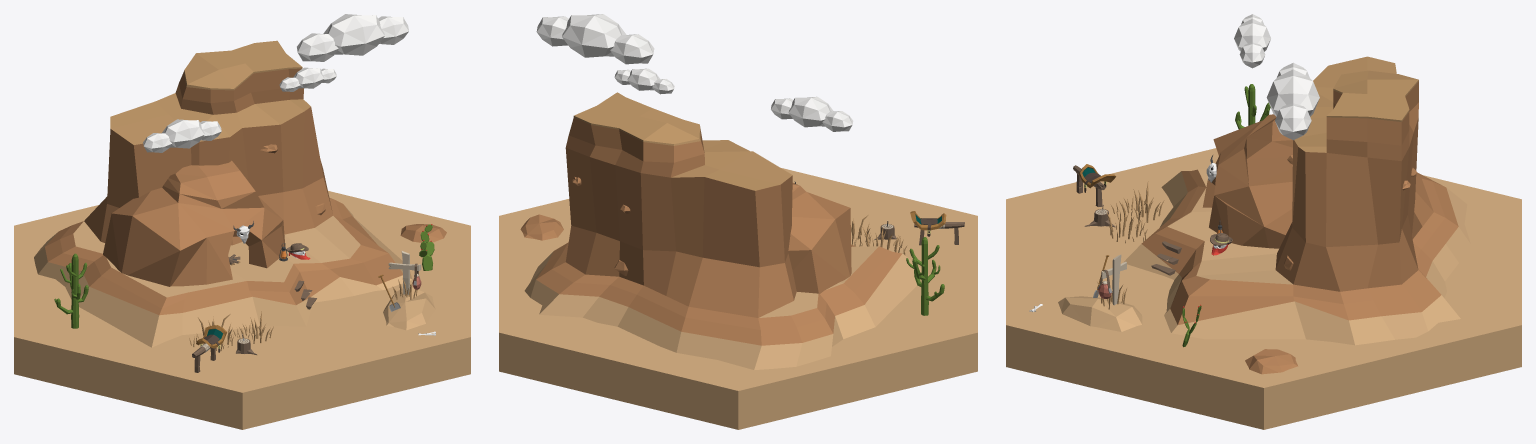
File: Tile_16.fbx
The picture shows the model from 3 angles, left to right: view 1: azimuth 30°, elevation 25°; view 2: azimuth 150°, elevation 25°; view 3: azimuth 270°, elevation 25°; orthographic projection. The views are drawn at different scales.
Visible parts, largest first — view 1: Tile_16_Base, Tile_16_Mountain, Tile_16_Cave, Tile_16, Tile_16_Grave, Tile_16_Stone, Tile_16_Saddle; view 2: Tile_16_Mountain, Tile_16_Base, Tile_16, Tile_16_Cave, Tile_16_Stone, Tile_16_Saddle; view 3: Tile_16_Base, Tile_16_Mountain, Tile_16_Cave, Tile_16, Tile_16_Grave, Tile_16_Stone, Tile_16_Grass, Tile_16_Saddle.
Boxes of the visible parts, left/top/right/bottom form: Tile_16_Base: left=14, top=191, right=470, bottom=429; Tile_16_Mountain: left=34, top=40, right=412, bottom=347; Tile_16_Cave: left=103, top=160, right=285, bottom=286; Tile_16: left=54, top=14, right=434, bottom=328; Tile_16_Grave: left=383, top=251, right=435, bottom=330; Tile_16_Stone: left=400, top=224, right=446, bottom=242; Tile_16_Saddle: left=196, top=325, right=226, bottom=352; Tile_16_Mountain: left=524, top=92, right=928, bottom=369; Tile_16_Base: left=499, top=168, right=977, bottom=429; Tile_16: left=536, top=14, right=944, bottom=315; Tile_16_Cave: left=788, top=183, right=851, bottom=293; Tile_16_Stone: left=520, top=214, right=563, bottom=240; Tile_16_Saddle: left=910, top=211, right=946, bottom=236; Tile_16_Base: left=1006, top=148, right=1521, bottom=429; Tile_16_Mountain: left=1123, top=56, right=1470, bottom=345; Tile_16_Cave: left=1202, top=114, right=1292, bottom=248; Tile_16: left=1182, top=14, right=1319, bottom=347; Tile_16_Grave: left=1058, top=254, right=1142, bottom=331; Tile_16_Stone: left=1245, top=349, right=1297, bottom=374; Tile_16_Grass: left=1111, top=181, right=1164, bottom=222; Tile_16_Saddle: left=1079, top=164, right=1115, bottom=192.
Bounding box in the file's own units: 2318 × 2007 × 1275.
